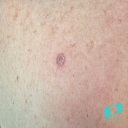Actinic: (53, 51, 70, 66)
